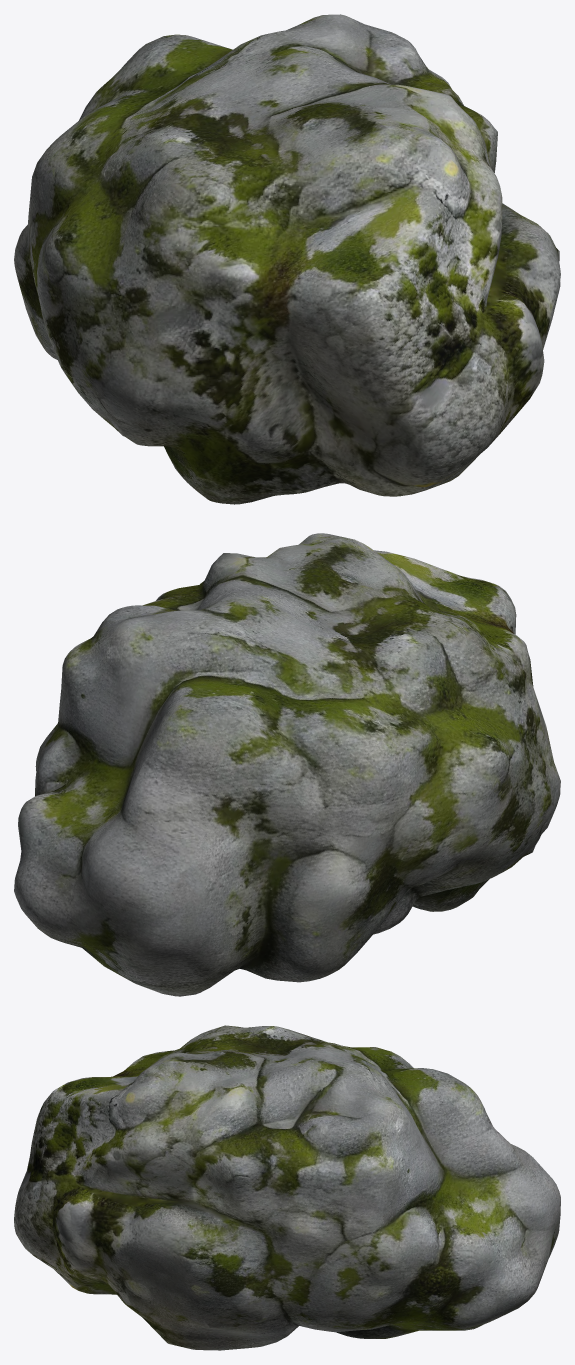
The model's file is rock_grey.glb.
The picture shows the model from 3 angles, top to bottom: view 1: azimuth 30°, elevation 25°; view 2: azimuth 150°, elevation 25°; view 3: azimuth 270°, elevation 25°; orthographic projection. The views are drawn at different scales.
Parts seen in each view (by area): view 1: node_0; view 2: node_0; view 3: node_0.
Part boxes in pixels (x1,y1,x2,y2): node_0: (14, 14, 560, 504); node_0: (14, 533, 560, 996); node_0: (14, 1025, 560, 1350).
Bounding box in the file's own units: 0.8346 × 0.6229 × 1.18.
1 material, 1 textured.
